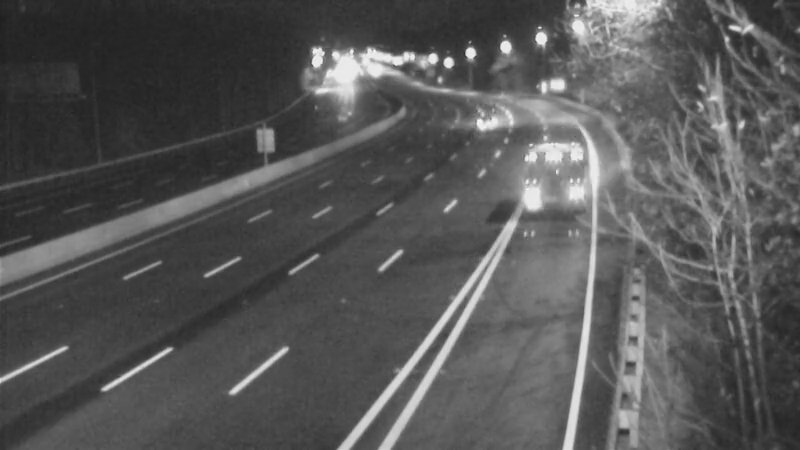vehicle: (515, 127, 595, 207), (459, 97, 509, 147)
